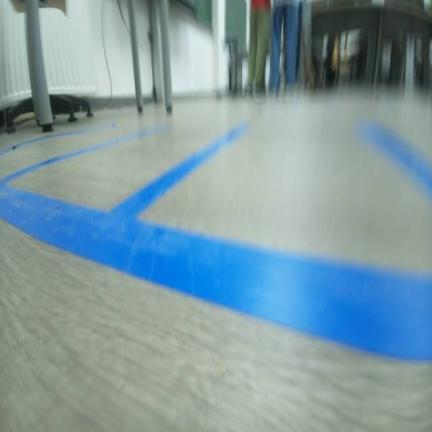place: (72, 118, 431, 365), (0, 120, 256, 264), (0, 121, 175, 183)
